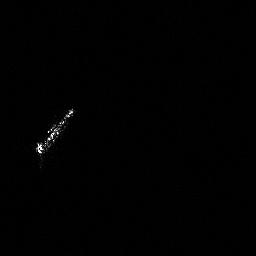ship: (33, 104, 79, 171)
